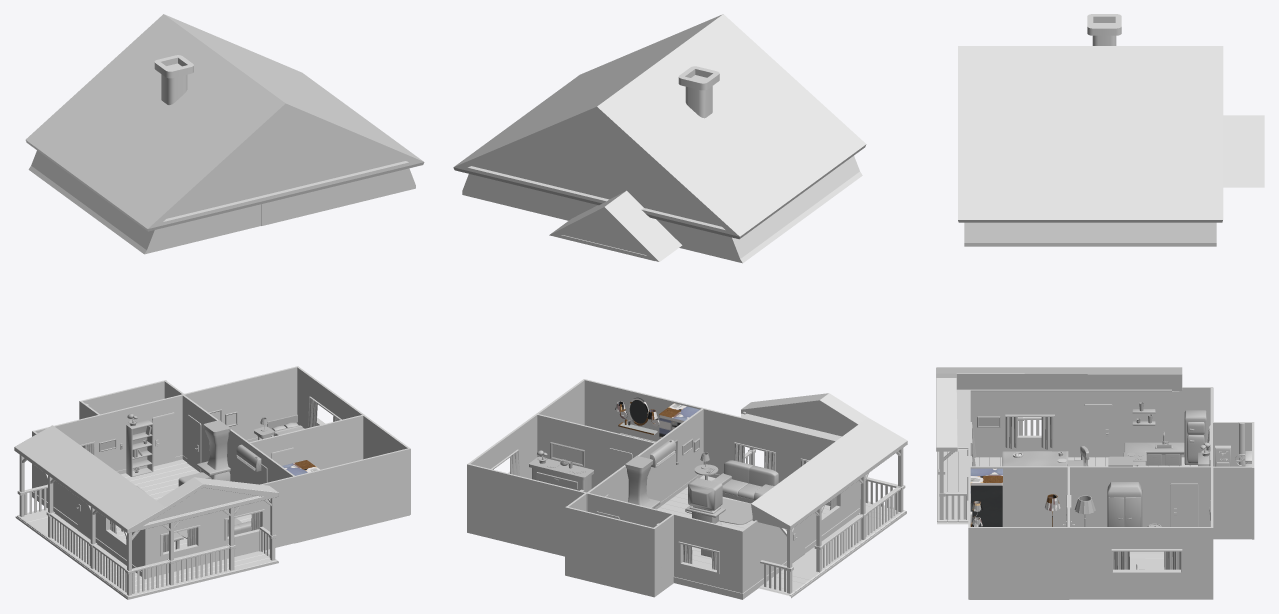
Rendered from CabinDetailed13.fbx.
3 renders of one model, left to right at view 1: azimuth 30°, elevation 25°; view 2: azimuth 150°, elevation 25°; view 3: azimuth 270°, elevation 25°, orthographic. The views are drawn at different scales.
Visible parts, largest first — view 1: Cube.001, Wall, PorchRoof, Roof, Porch, Floor_Living, Closet.001, Chimney, Cube.003, Door4, Door2, Rim2; view 2: Cube.001, Wall, PorchRoof, Roof, Cube.004, Porch, Couch, Cube.003, Drawer, Rim2, Chimney, Floor_Living (+2 smaller); view 3: Cube.001, Wall, PorchRoof, Roof, Cube.004, Porch, Closet, Door5, Kitchen, Door2, Glasswall1, Fridge (+6 smaller).
Part boxes in pixels (x1,y1,x2,y2): Cube.001: [25, 14, 424, 231]; Wall: [32, 366, 410, 579]; PorchRoof: [14, 425, 278, 595]; Roof: [28, 150, 415, 254]; Porch: [15, 508, 278, 599]; Floor_Living: [110, 459, 293, 549]; Closet.001: [126, 413, 153, 476]; Chimney: [196, 420, 230, 481]; Cube.003: [154, 55, 193, 104]; Door4: [152, 412, 175, 466]; Door2: [187, 415, 201, 472]; Rim2: [32, 455, 202, 576]; Cube.001: [453, 14, 866, 239]; Wall: [467, 379, 859, 599]; PorchRoof: [740, 393, 907, 593]; Roof: [462, 156, 862, 263]; Cube.004: [549, 190, 682, 261]; Porch: [758, 499, 906, 598]; Couch: [712, 460, 778, 503]; Cube.003: [678, 66, 719, 118]; Drawer: [529, 456, 593, 492]; Rim2: [654, 474, 859, 598]; Chimney: [625, 456, 660, 508]; Floor_Living: [657, 475, 830, 568]; Cube.001: [958, 46, 1223, 222]; Wall: [968, 387, 1254, 599]; PorchRoof: [936, 367, 1182, 519]; Roof: [964, 222, 1216, 246]; Cube.004: [1223, 115, 1264, 187]; Porch: [937, 449, 968, 524]; Closet: [1107, 482, 1142, 526]; Door5: [1084, 404, 1112, 457]; Kitchen: [1123, 442, 1184, 466]; Door2: [1170, 483, 1198, 526]; Glasswall1: [971, 485, 1002, 526]; Fridge: [1184, 410, 1206, 464].
Size of the model in its own units: 3890 by 5451 by 3319.
